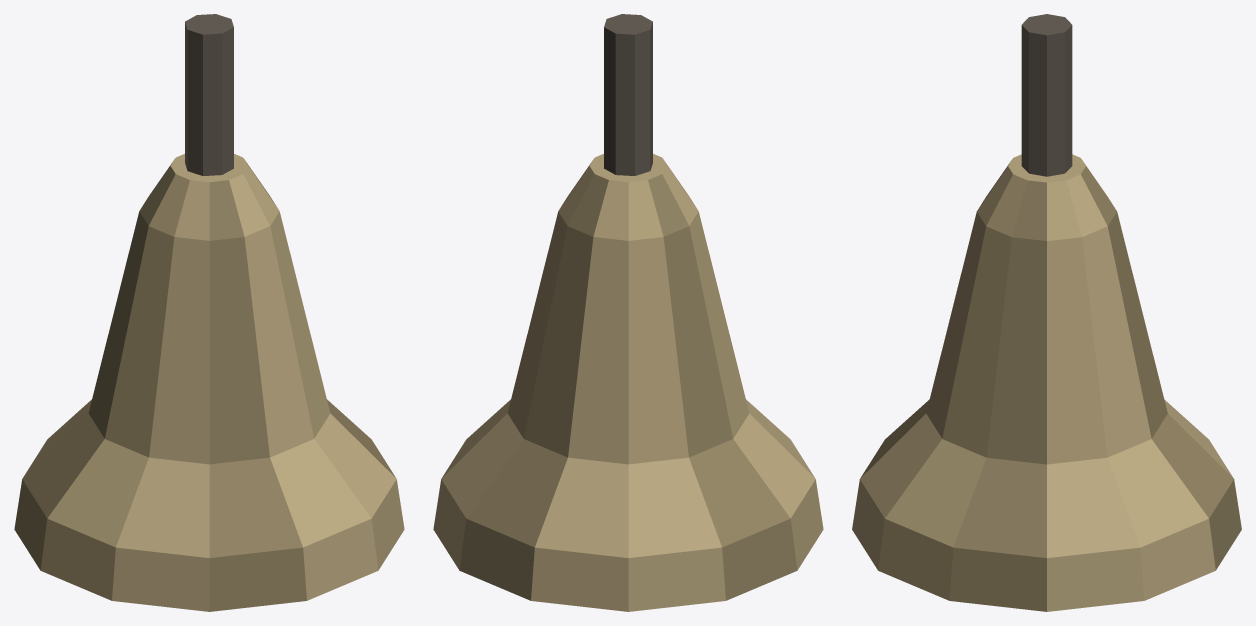
Rendered from bell.glb.
3 views of the same model, side by side, from view 1: azimuth 30°, elevation 25°; view 2: azimuth 150°, elevation 25°; view 3: azimuth 270°, elevation 25° (orthographic).
Visible parts, largest first — view 1: bell; view 2: bell; view 3: bell.
Boxes of the visible parts, <box> form: bell: <box>14,14,404,611</box>; bell: <box>433,14,823,611</box>; bell: <box>852,14,1241,611</box>.
Bounding box in the file's own units: 0.14 × 0.2 × 0.14.
